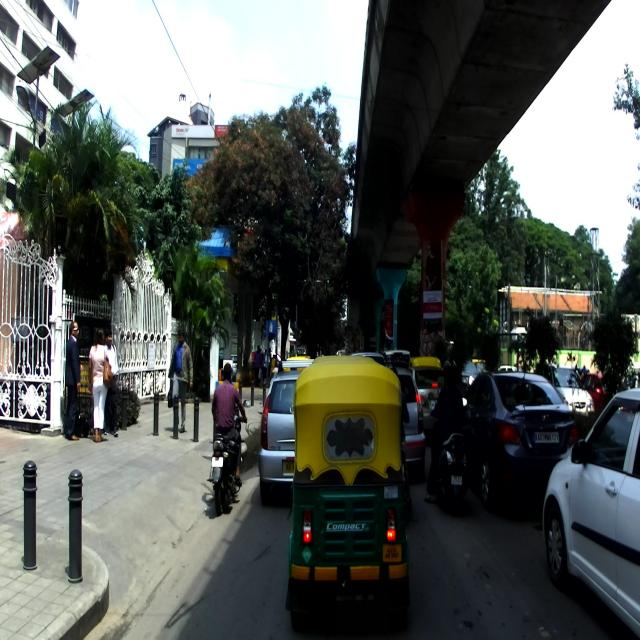autorickshaw: (284, 355, 412, 632)
car: (541, 387, 640, 639), (460, 369, 585, 511)
motorcycle: (207, 396, 251, 517)
scooter: (428, 392, 470, 515)
